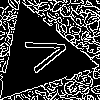V: (15, 31, 71, 77)
